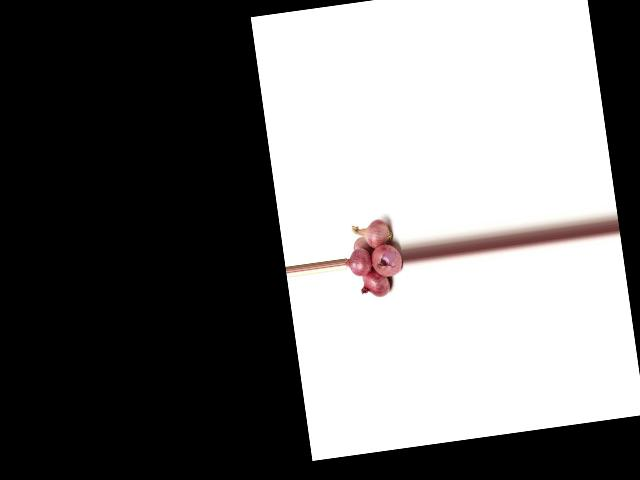onion: (368, 235, 404, 279)
